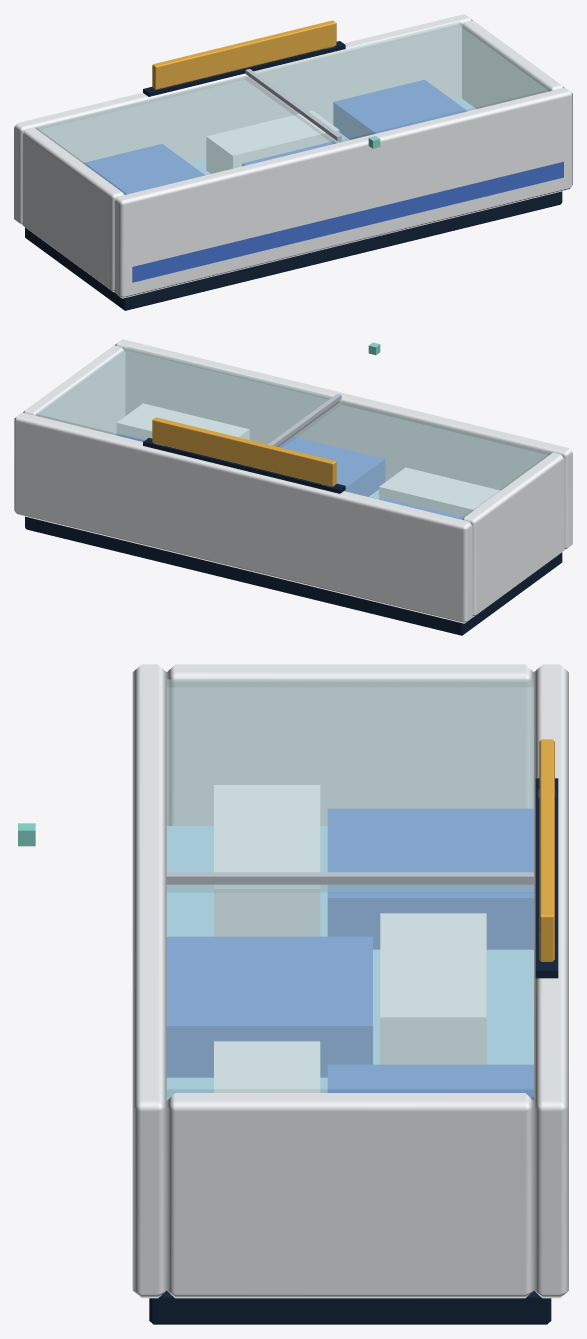
Rendered from CM_Fixture_FreezerChest_Far.fbx.
The picture shows the model from 3 angles, top to bottom: view 1: azimuth 30°, elevation 25°; view 2: azimuth 150°, elevation 25°; view 3: azimuth 270°, elevation 25°; orthographic projection. The views are drawn at different scales.
Visible parts, largest first — view 1: Body, Glass; view 2: Body, Glass; view 3: Body, Glass.
Boxes of the visible parts, <box> form: Body: <box>14,14,572,310</box>; Glass: <box>35,21,551,194</box>; Body: <box>14,339,572,635</box>; Glass: <box>35,346,551,519</box>; Body: <box>132,664,568,1324</box>; Glass: <box>166,679,533,1097</box>.
Size of the model in its own units: 12 by 6.3 by 3.6.
2 materials, 2 textured.
